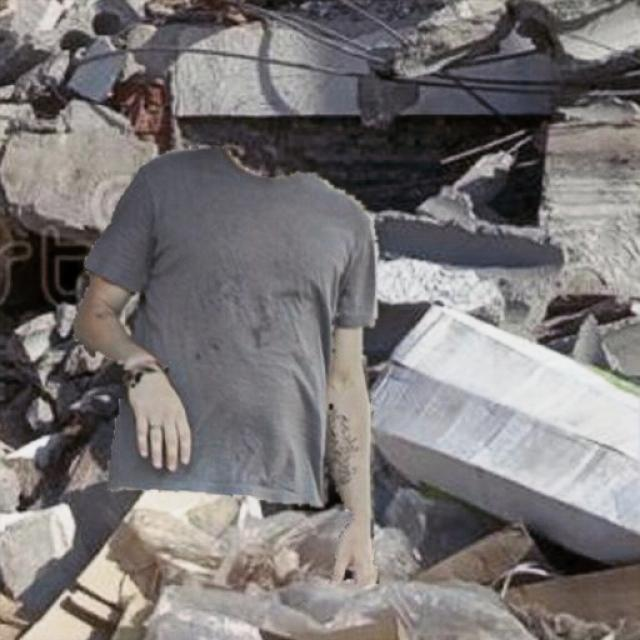Person in Rubble: (72, 147, 378, 582)
